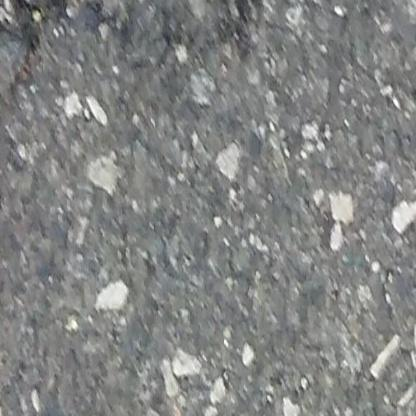Cracks: (0, 0, 173, 134), (159, 0, 300, 59)
